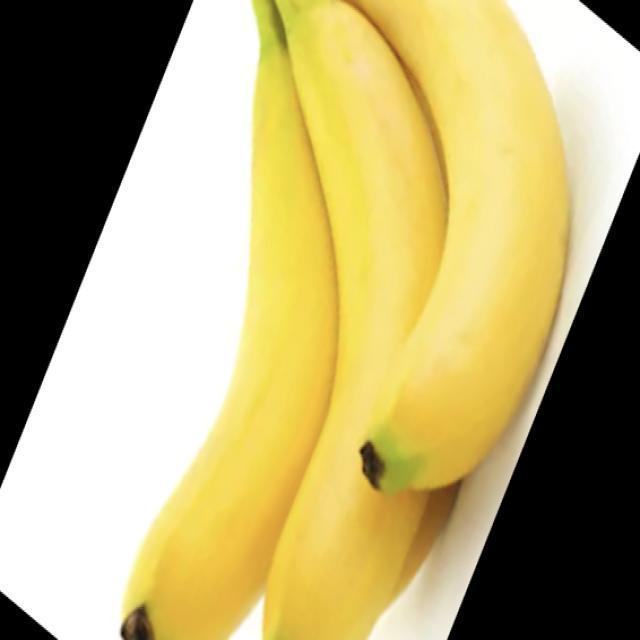Banana: (118, 0, 571, 639)
